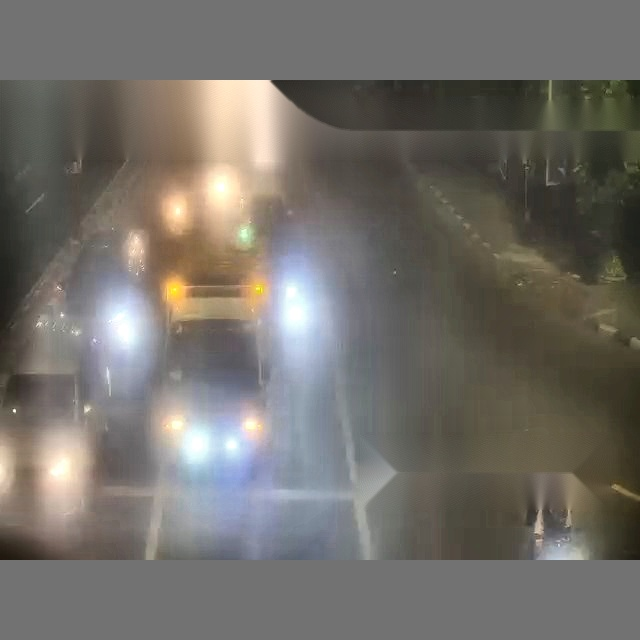Motor: (126, 229, 146, 280)
